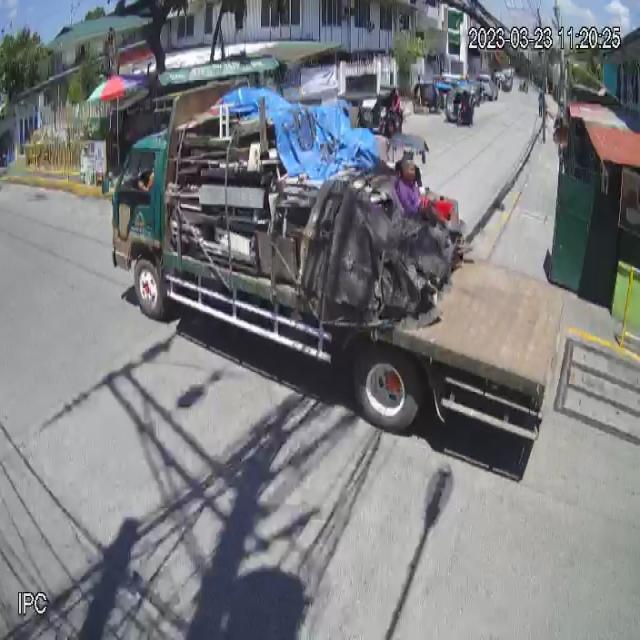Truck: (101, 73, 570, 436)
